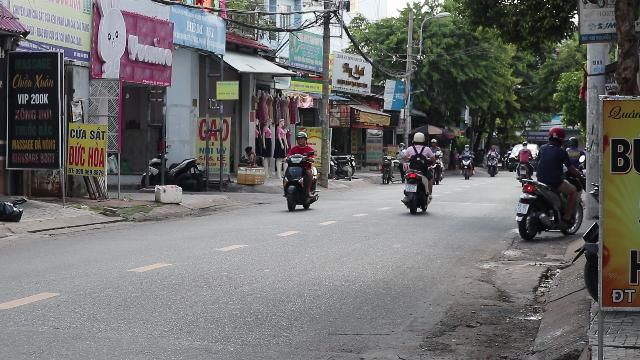helmet: (546, 126, 566, 144), (294, 131, 308, 145)
licenseplate: (514, 202, 528, 213)
motorcyclist: (512, 124, 580, 240), (279, 130, 321, 212)
